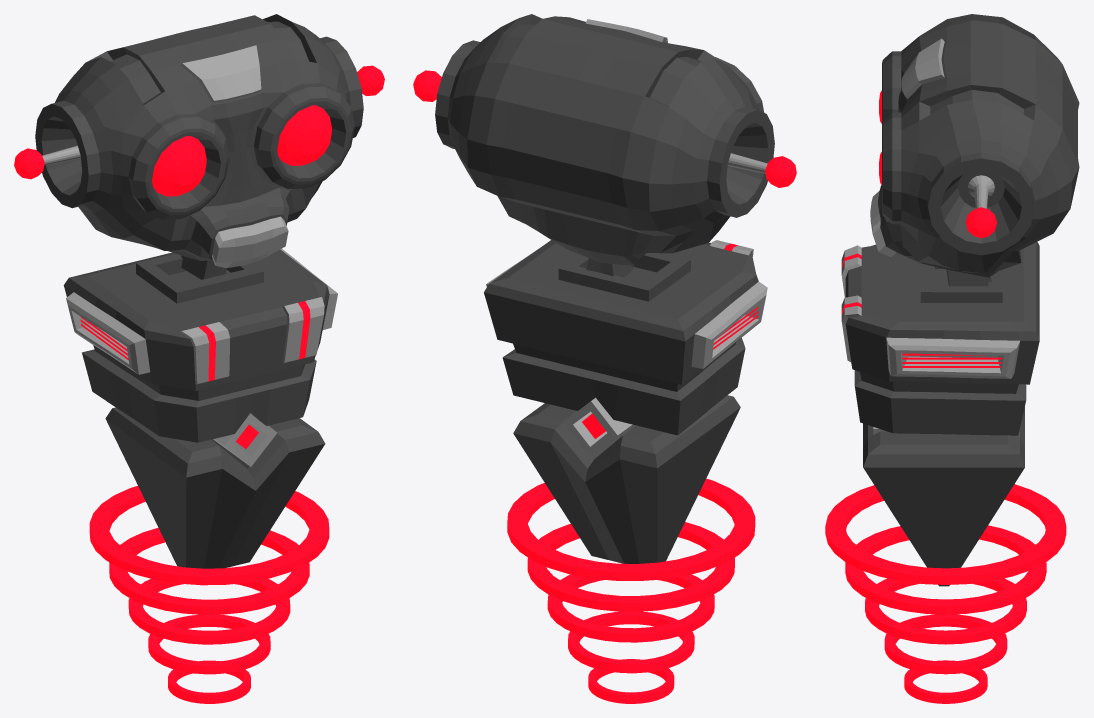
File: robot.glb
The picture shows the model from 3 angles, left to right: view 1: azimuth 30°, elevation 25°; view 2: azimuth 150°, elevation 25°; view 3: azimuth 270°, elevation 25°; orthographic projection. The views are drawn at different scales.
Visible parts, largest first — view 1: Circle.003, Cube.005, Cube.009, big.007, big.006, big.005, big.004, Cube.007, big; view 2: Circle.003, Cube.005, Cube.009, big.007, big.006, big.005, big.004, Cube.007, big; view 3: Circle.003, Cube.005, Cube.009, big.007, big.006, big.005, big.004, big.
Boxes of the visible parts, x1=… form: Circle.003: x1=14, y1=14, x2=384, y2=279; Cube.005: x1=63, y1=248, x2=337, y2=442; Cube.009: x1=105, y1=407, x2=325, y2=568; big.007: x1=89, y1=486, x2=329, y2=585; big.006: x1=109, y1=527, x2=309, y2=614; big.005: x1=128, y1=579, x2=290, y2=644; big.004: x1=148, y1=614, x2=270, y2=674; Cube.007: x1=213, y1=413, x2=277, y2=466; big: x1=168, y1=660, x2=250, y2=703; Circle.003: x1=413, y1=14, x2=796, y2=277; Cube.005: x1=484, y1=240, x2=767, y2=435; Cube.009: x1=513, y1=395, x2=740, y2=563; big.007: x1=507, y1=478, x2=755, y2=580; big.006: x1=527, y1=522, x2=734, y2=611; big.005: x1=547, y1=574, x2=714, y2=642; big.004: x1=568, y1=611, x2=694, y2=673; Cube.007: x1=563, y1=397, x2=634, y2=457; big: x1=588, y1=659, x2=674, y2=703; Circle.003: x1=870, y1=14, x2=1079, y2=286; Cube.005: x1=841, y1=242, x2=1039, y2=435; Cube.009: x1=863, y1=407, x2=1024, y2=586; big.007: x1=825, y1=484, x2=1066, y2=584; big.006: x1=845, y1=525, x2=1046, y2=614; big.005: x1=865, y1=578, x2=1026, y2=644; big.004: x1=884, y1=614, x2=1007, y2=674; big: x1=904, y1=660, x2=987, y2=703.
Size of the model in its own units: 0.5125 by 0.8507 by 0.3073.
